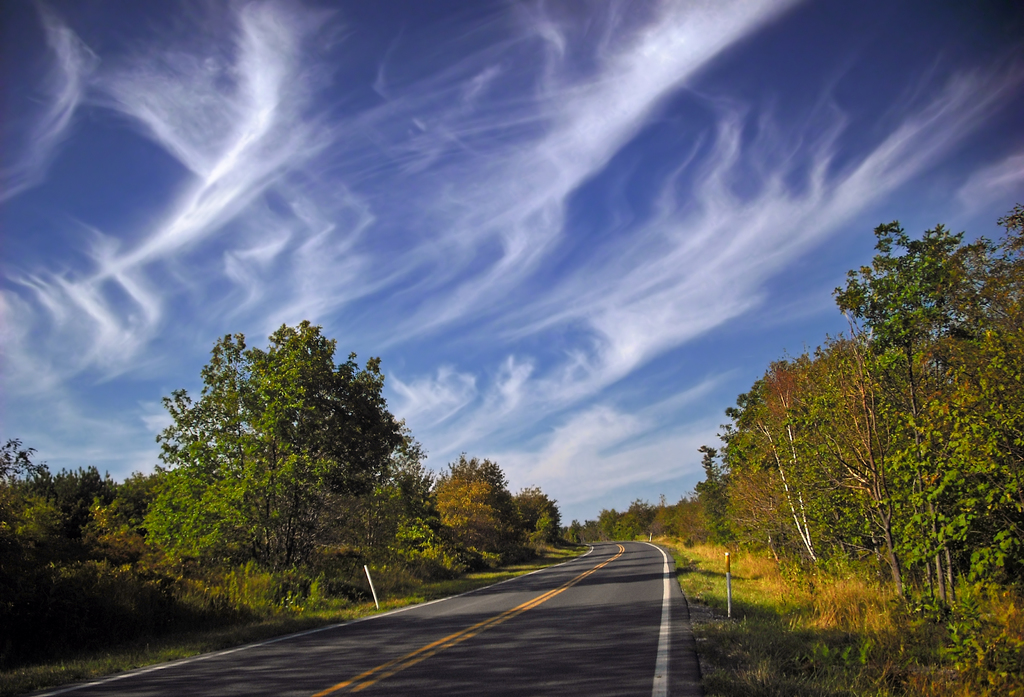Tree: (568, 222, 1023, 626), (0, 442, 561, 651)
